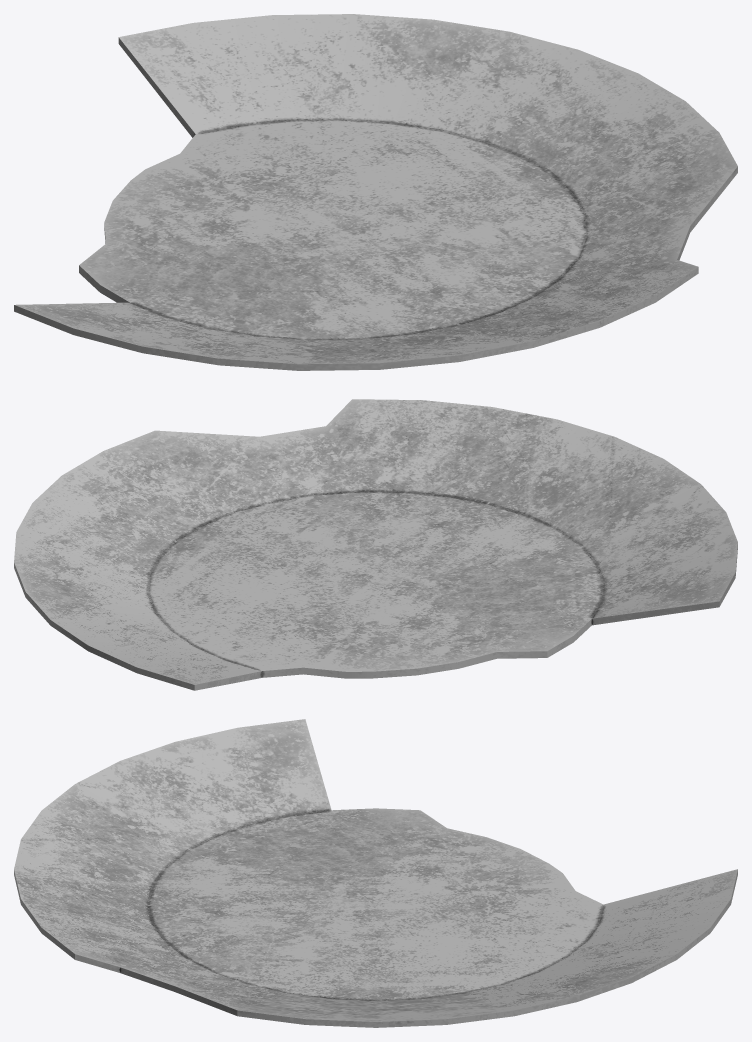
Rendered from Plate_Broken_AA.fbx.
3 renders of one model, top to bottom at view 1: azimuth 30°, elevation 25°; view 2: azimuth 150°, elevation 25°; view 3: azimuth 270°, elevation 25°, orthographic. The views are drawn at different scales.
Visible parts, largest first — view 1: Plate_Broken_AA; view 2: Plate_Broken_AA; view 3: Plate_Broken_AA.
Boxes of the visible parts, x1=… form: Plate_Broken_AA: x1=14, y1=14, x2=737, y2=370; Plate_Broken_AA: x1=14, y1=399, x2=737, y2=690; Plate_Broken_AA: x1=14, y1=719, x2=737, y2=1027.
Bounding box in the file's own units: 0.5769 × 0.5825 × 0.0375.
Materials: 1 (1 with a texture image).
